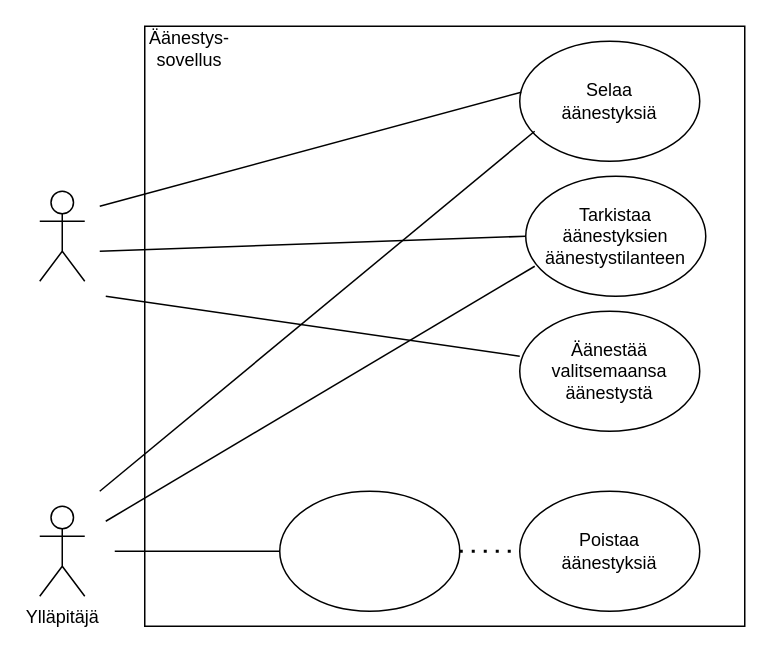
Image size: 771x654. Some labels were removed from this diagram. Each missing label, with the centre of its shape:
"Käyttäjä" goes at (61,235).
"Luo uusia äänestyksiä" goes at (369,550).
